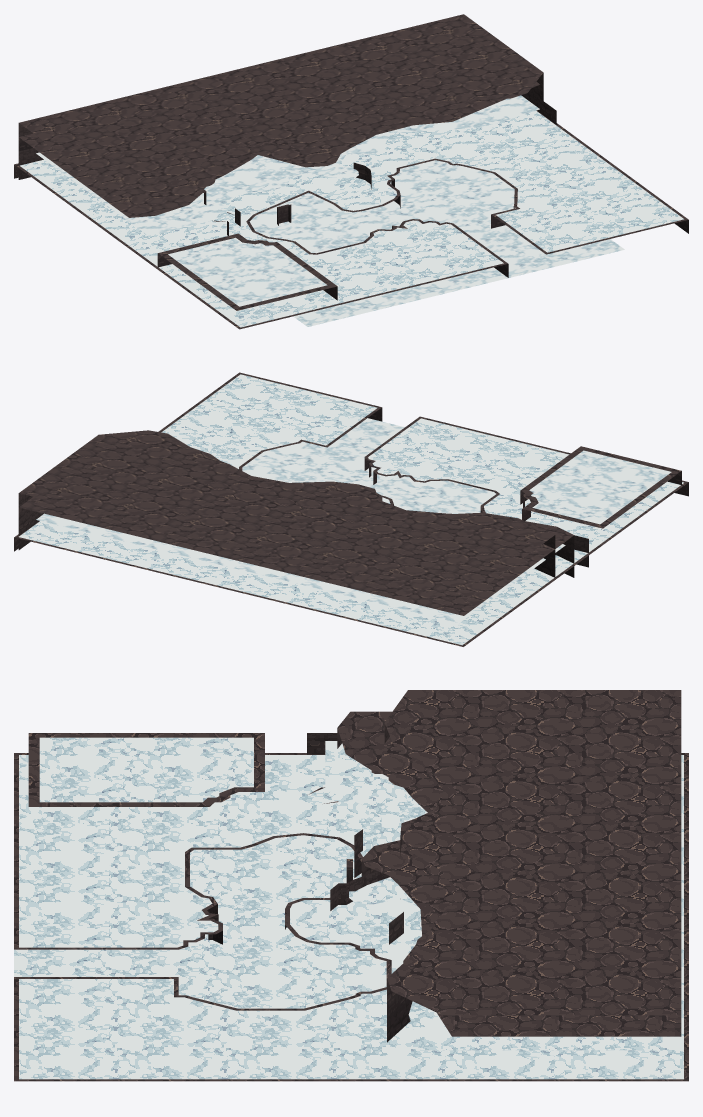
File: map_mesh_titans_respite_7.glb
The picture shows the model from 3 angles, top to bottom: view 1: azimuth 30°, elevation 25°; view 2: azimuth 150°, elevation 25°; view 3: azimuth 270°, elevation 25°; orthographic projection. The views are drawn at different scales.
Parts seen in each view (by area): view 1: Plane.109, Plane.106, Plane.105, Plane.107, Plane.108, Plane.110; view 2: Plane.106, Plane.109, Plane.107, Plane.105, Plane.110, Plane.108; view 3: Plane.109, Plane.106, Plane.105, Plane.110, Plane.107, Plane.108.
Part boxes in pixels (x1,y1,x2,y2): Plane.109: (14, 110, 688, 329); Plane.106: (18, 14, 543, 189); Plane.105: (249, 160, 624, 326); Plane.107: (19, 82, 540, 217); Plane.108: (18, 91, 556, 235); Plane.110: (157, 233, 337, 310); Plane.106: (18, 430, 555, 601); Plane.109: (14, 372, 688, 646); Plane.107: (18, 493, 574, 615); Plane.105: (242, 418, 495, 513); Plane.110: (520, 446, 681, 528); Plane.108: (19, 511, 588, 623); Plane.109: (14, 753, 688, 1081); Plane.106: (384, 690, 681, 1042); Plane.105: (14, 835, 386, 1008); Plane.110: (28, 733, 264, 806); Plane.107: (337, 711, 681, 1036); Plane.108: (307, 733, 662, 1050).
Size of the model in its own units: 65.6 by 8.01 by 56.99.
Materials: 3 (3 with a texture image).
